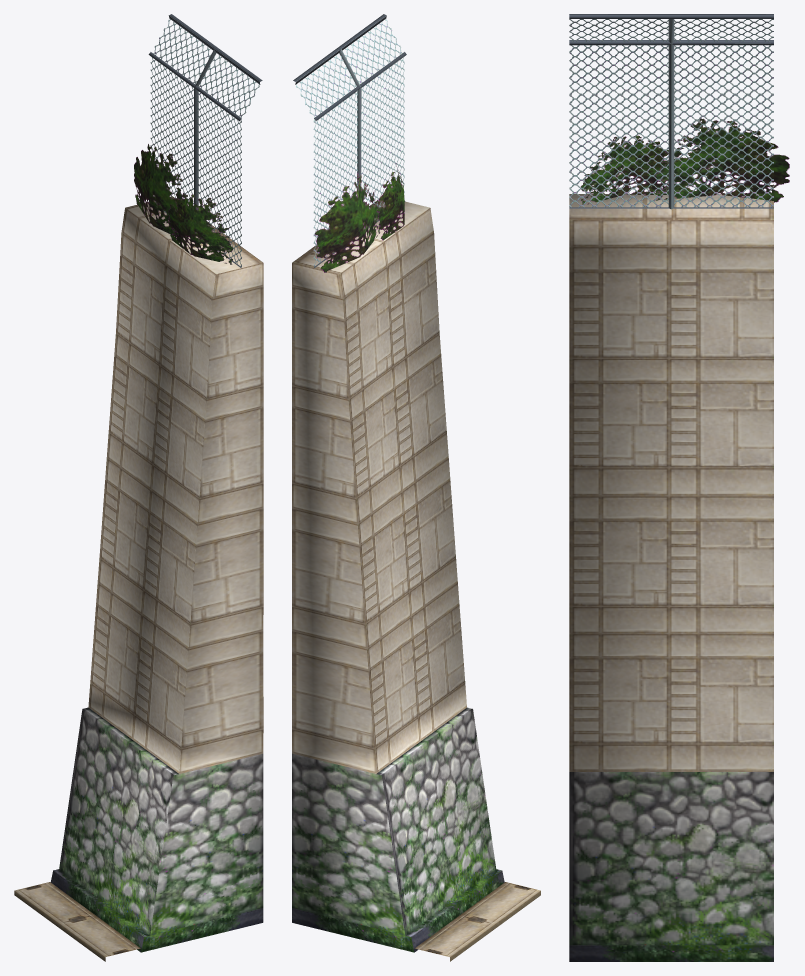
File: a_SWEbwall01_3.glb
The picture shows the model from 3 angles, left to right: view 1: azimuth 30°, elevation 25°; view 2: azimuth 150°, elevation 25°; view 3: azimuth 270°, elevation 25°; orthographic projection. The views are drawn at different scales.
Parts seen in each view (by area): view 1: a_SWEbwall01_3; view 2: a_SWEbwall01_3; view 3: a_SWEbwall01_3.
Part boxes in pixels (x1,y1,x2,y2): a_SWEbwall01_3: (14, 14, 263, 961); a_SWEbwall01_3: (292, 14, 540, 961); a_SWEbwall01_3: (569, 14, 789, 961).
Bounding box in the file's own units: 2 × 10.22 × 2.17.
5 materials, 5 textured.
